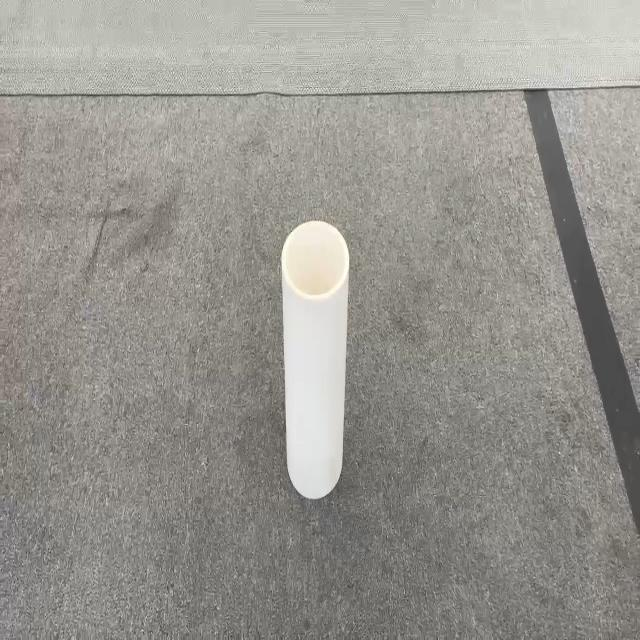coral: (280, 218, 350, 500)
